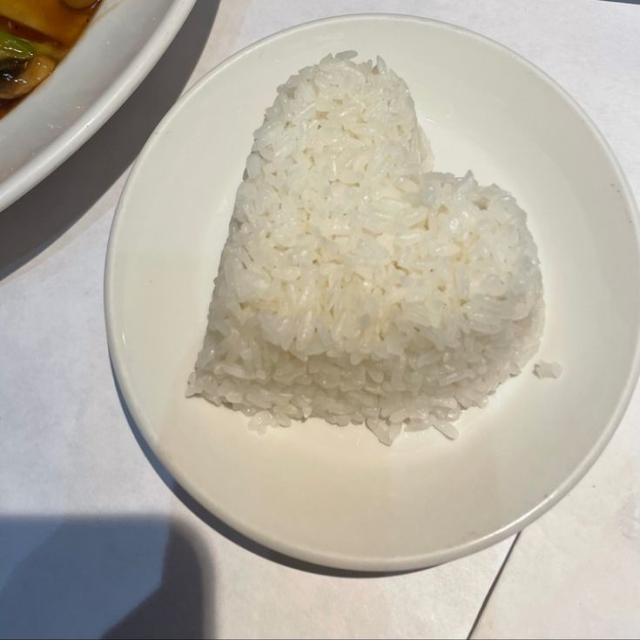rice: (189, 54, 542, 444), (534, 361, 562, 378)
